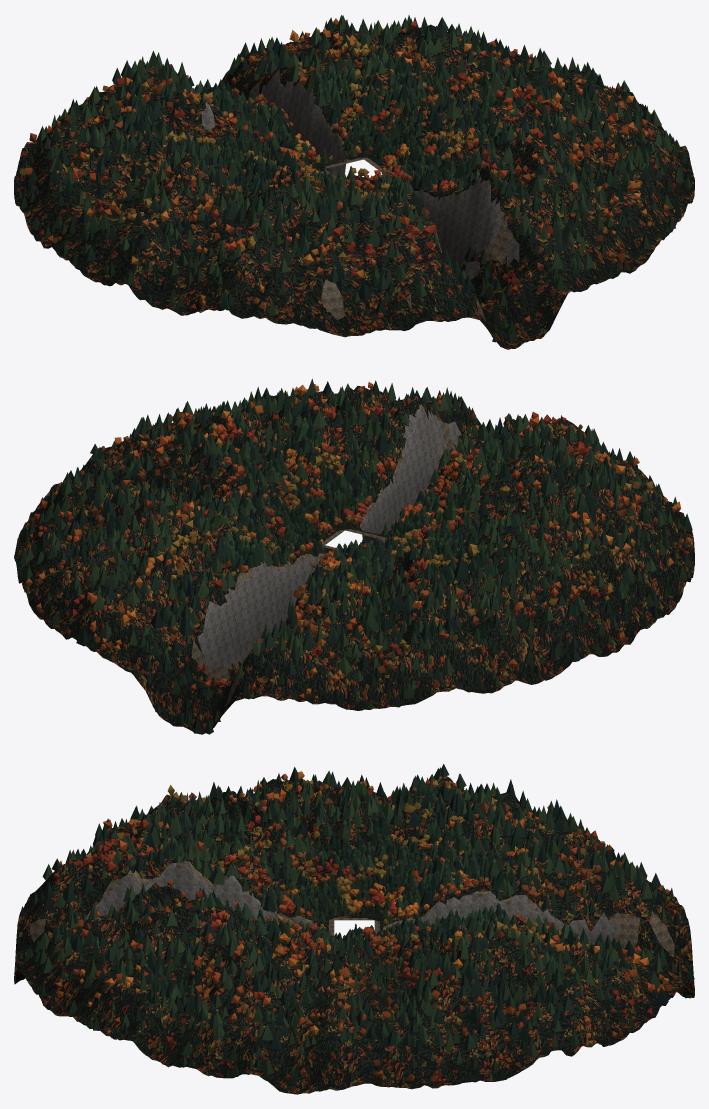
Rendered from backdrop_near_rect_weald_autumn.glb.
The picture shows the model from 3 angles, top to bottom: view 1: azimuth 30°, elevation 25°; view 2: azimuth 150°, elevation 25°; view 3: azimuth 270°, elevation 25°; orthographic projection.
Visible parts, largest first — view 1: near_land_S, near_land_W, trees_land_W_0, trees_land_S_0, trees_land_E_0, trees_land_N_0, near_land_E, near_land_N; view 2: near_land_N, near_land_W, trees_land_N_0, trees_land_W_0, trees_land_E_0, trees_land_S_0, near_land_S, near_land_E; view 3: near_land_E, trees_land_E_0, trees_land_W_0, near_land_S, trees_land_N_0, near_land_N, trees_land_S_0, near_land_W.
Part boxes in pixels (left/top/right/bottom): near_land_S: left=265, top=124, right=682, bottom=349; near_land_W: left=14, top=102, right=335, bottom=318; trees_land_W_0: left=18, top=90, right=335, bottom=313; trees_land_S_0: left=268, top=119, right=680, bottom=342; trees_land_E_0: left=368, top=17, right=691, bottom=214; trees_land_N_0: left=29, top=15, right=427, bottom=164; near_land_E: left=356, top=25, right=694, bottom=216; near_land_N: left=25, top=24, right=433, bottom=177; near_land_N: left=26, top=510, right=442, bottom=734; near_land_W: left=386, top=460, right=694, bottom=693; trees_land_N_0: left=35, top=502, right=442, bottom=734; trees_land_W_0: left=384, top=455, right=692, bottom=689; trees_land_E_0: left=15, top=386, right=342, bottom=586; trees_land_S_0: left=286, top=378, right=679, bottom=535; near_land_S: left=274, top=385, right=672, bottom=543; near_land_E: left=14, top=395, right=354, bottom=592; near_land_E: left=114, top=914, right=595, bottom=1094; trees_land_E_0: left=116, top=909, right=590, bottom=1088; trees_land_W_0: left=148, top=764, right=577, bottom=916; near_land_S: left=14, top=816, right=329, bottom=1039; trees_land_N_0: left=382, top=805, right=694, bottom=1038; near_land_N: left=380, top=817, right=694, bottom=1046; trees_land_S_0: left=18, top=805, right=326, bottom=1038; near_land_W: left=145, top=776, right=567, bottom=922.
Size of the model in its own units: 576 by 173 by 576.
Materials: 4 (3 with a texture image).
